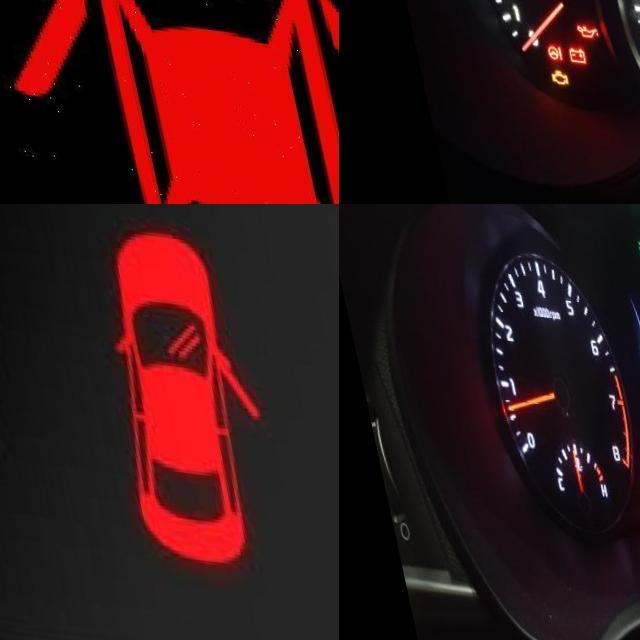SideLamp: (626, 229, 640, 248)
